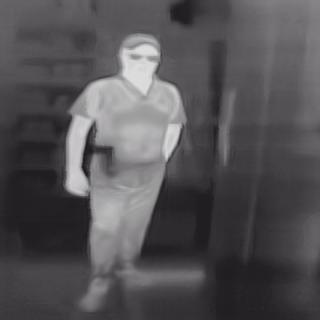Gun: (88, 144, 116, 179)
